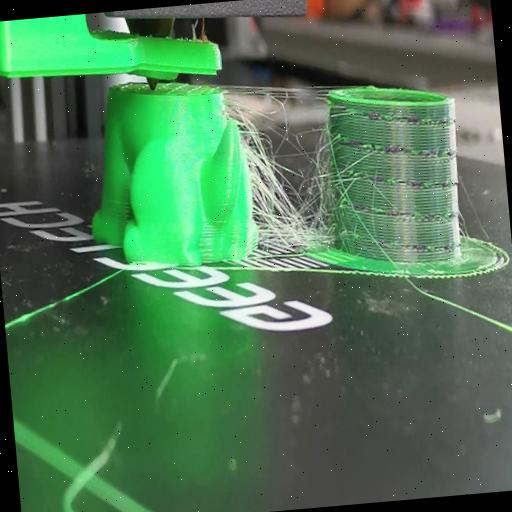stringing: (225, 86, 337, 249)
